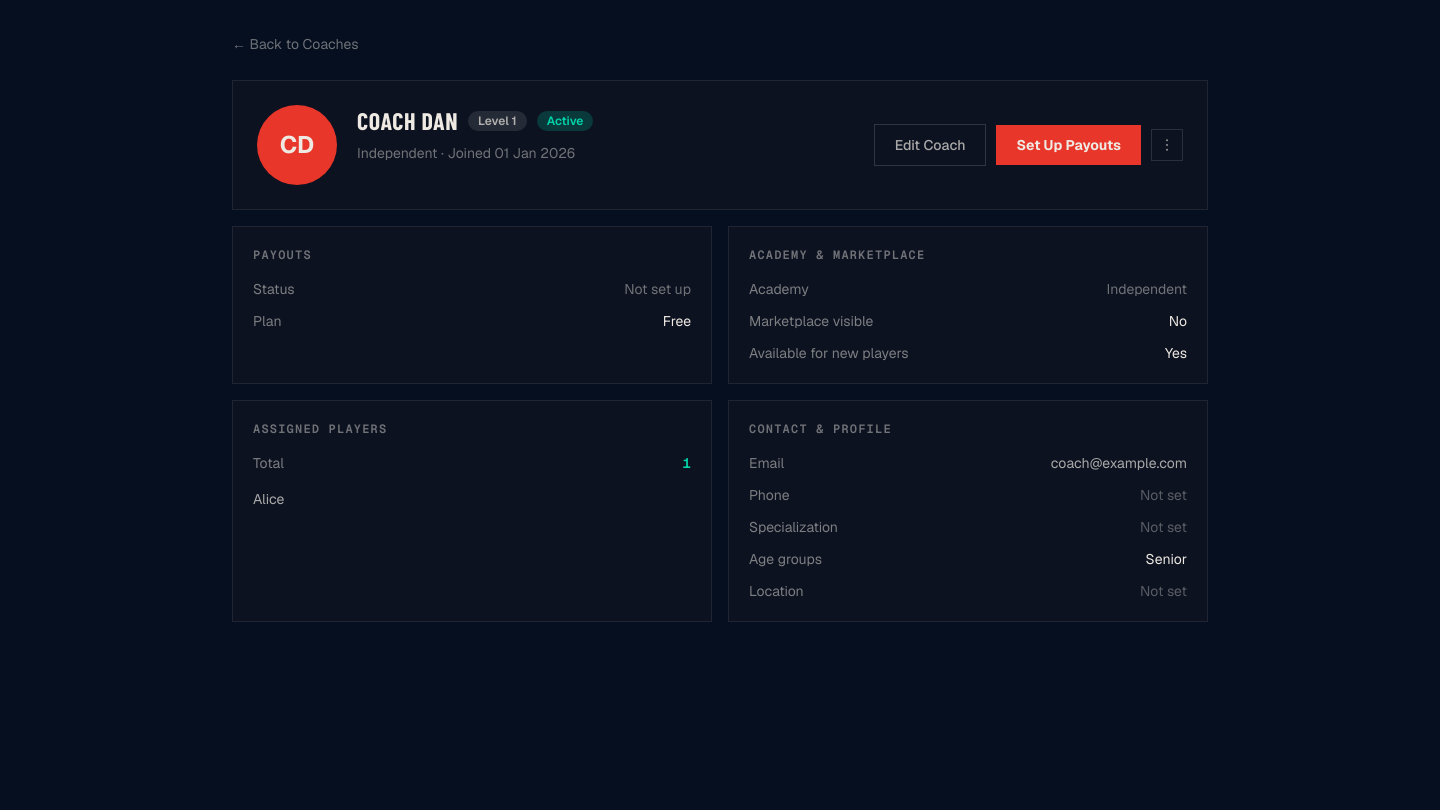
Test case: CoachProfileClient › reassigning all players from the profile page moves them and empties the Assigned Players card
Check: the heading "Coach Dan" is shown, box [357,105,458,137]
Click the button named "More actions" at (1167, 145), box [1151,129,1183,161]
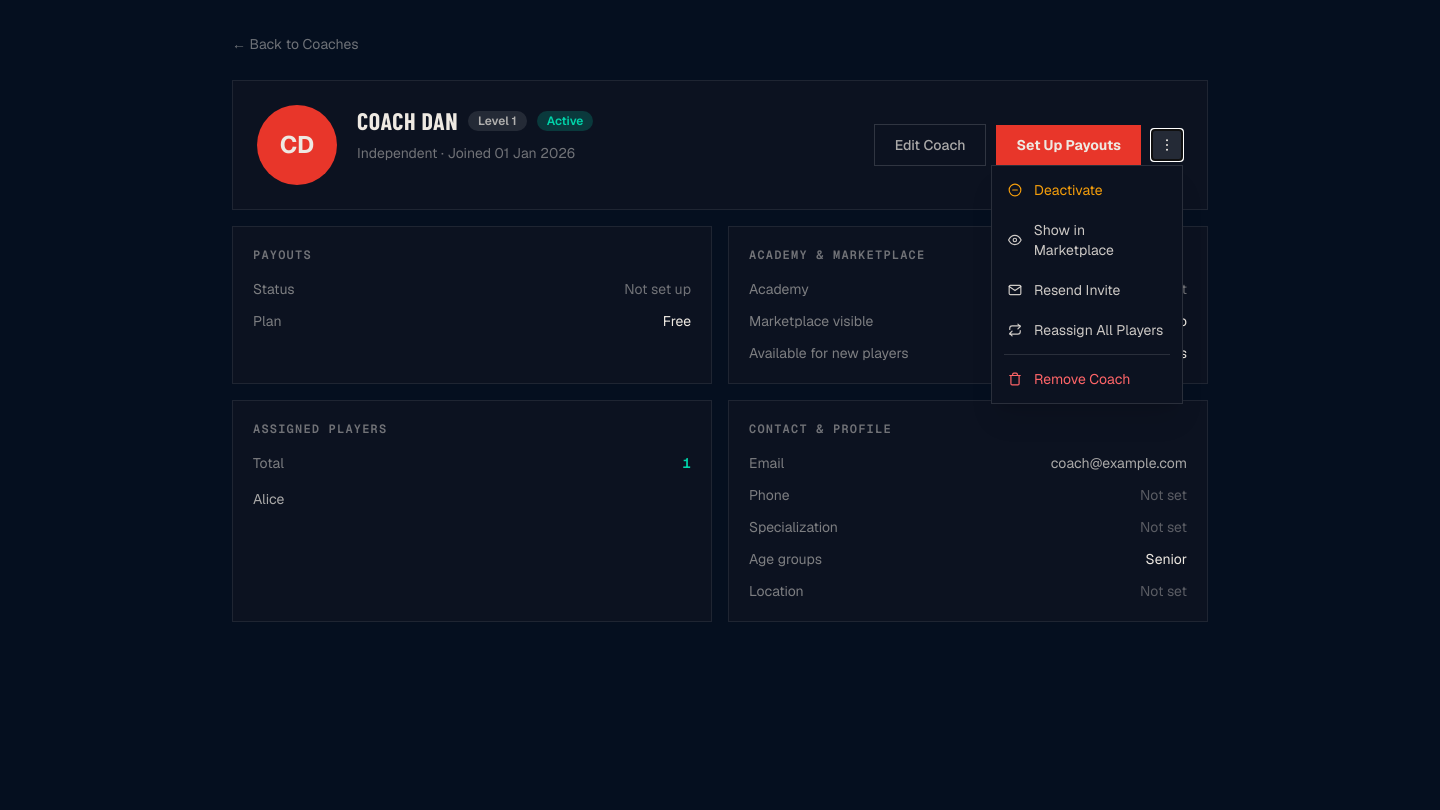
Click the button "Reassign All Players" at (1087, 330), box [992,310,1182,350]
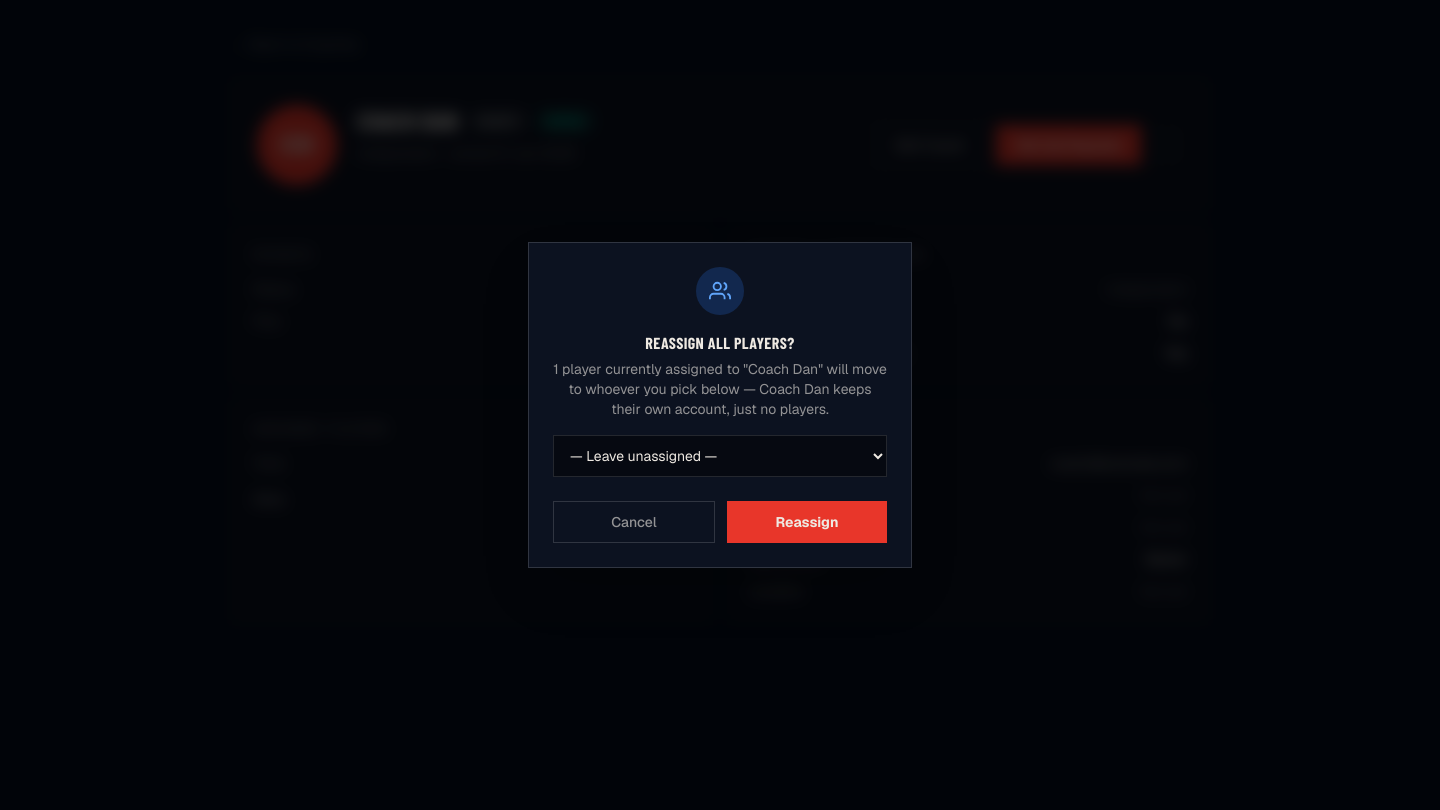
Check: the heading "Reassign All Players?" is shown, box [645,333,795,352]
Select "Coach Sam" in the dropdown showing "— Leave unassigned —" at (720, 456), box [553,435,887,477]
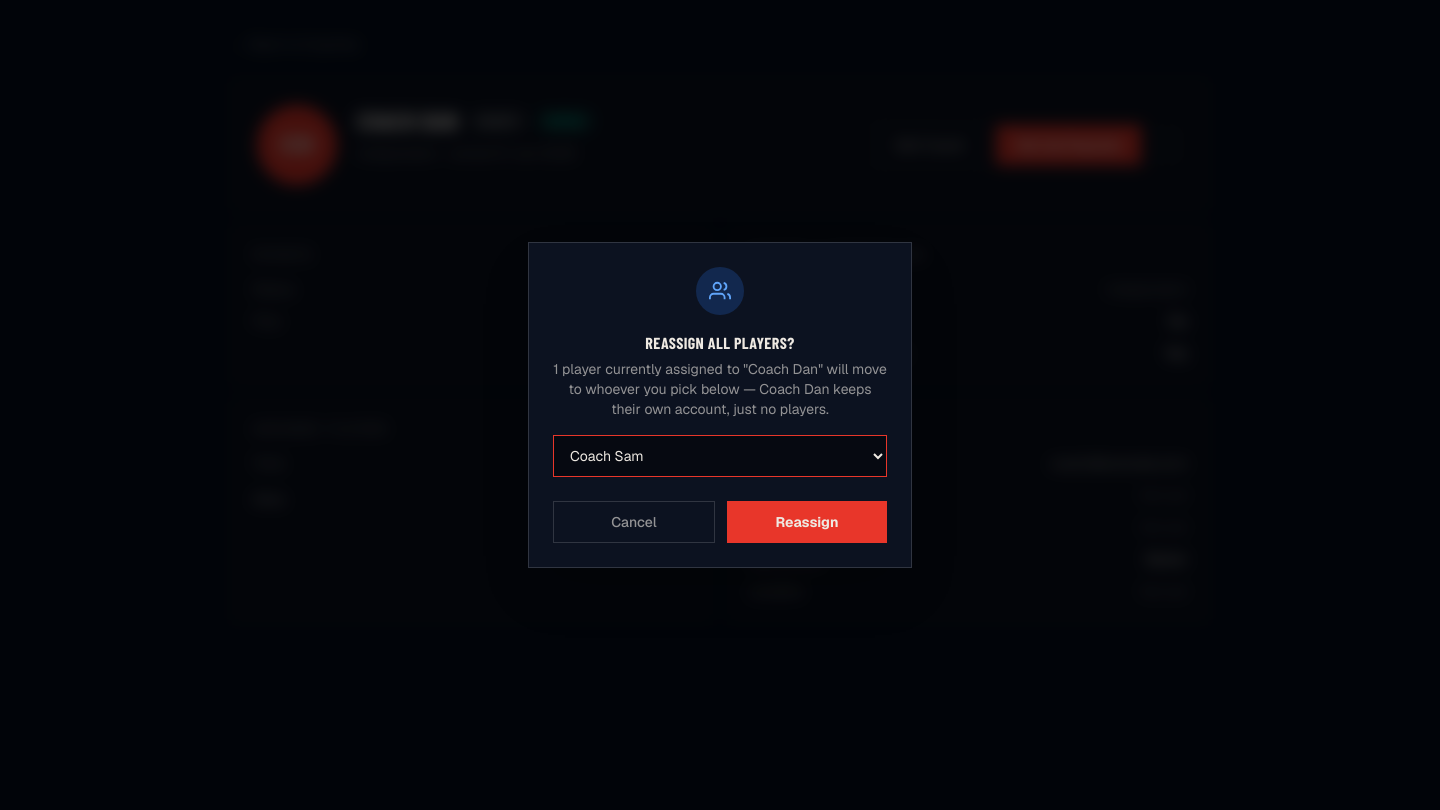
Click the button "Reassign" at (807, 522), box [727,501,887,543]
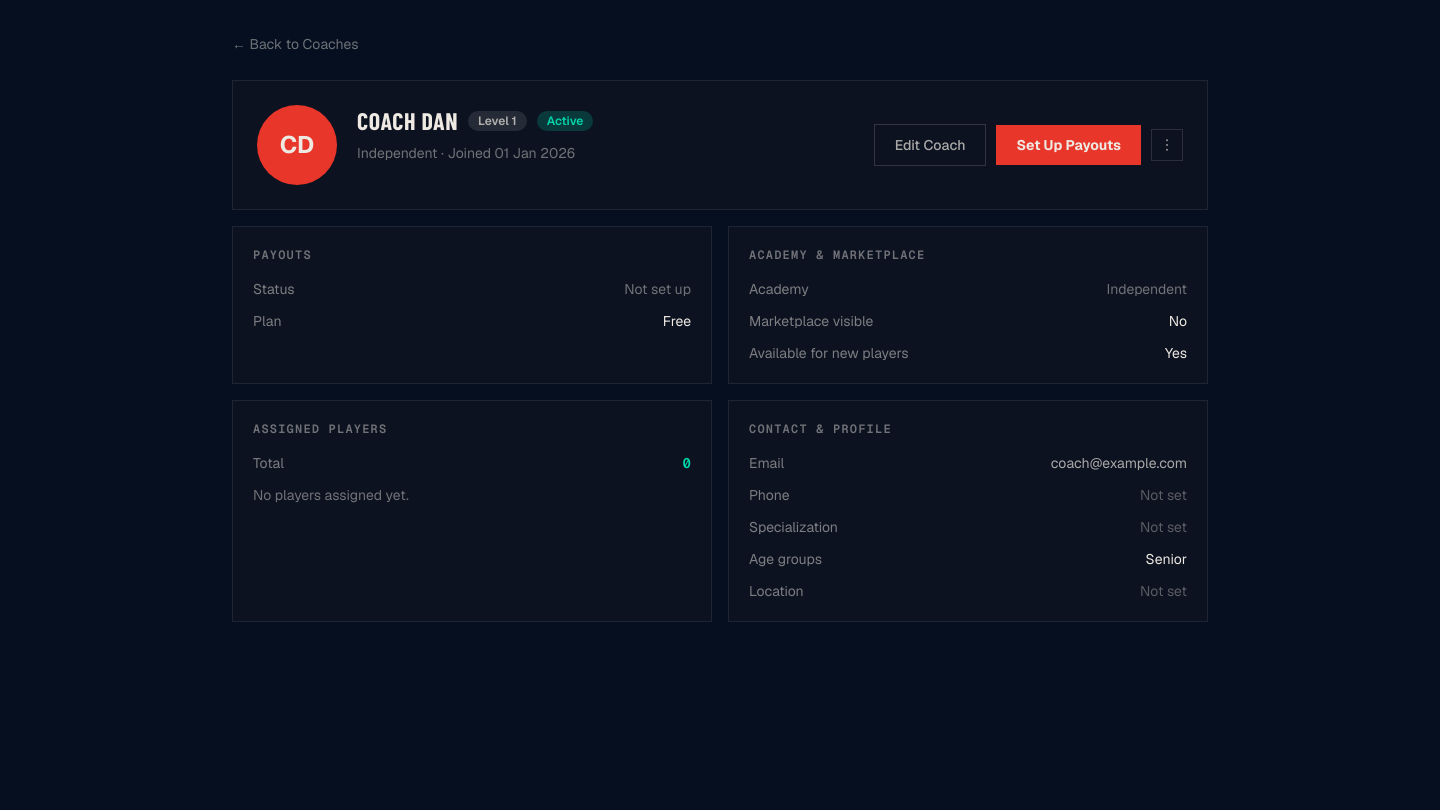
Check: the text "No players assigned yet." is shown, box [253,486,409,504]
